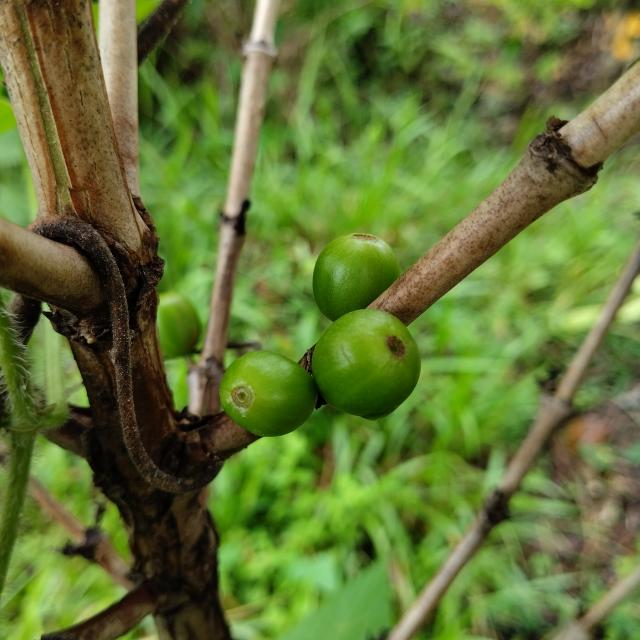green: (312, 309, 421, 420), (219, 351, 318, 437), (313, 233, 401, 321), (156, 292, 200, 358)
